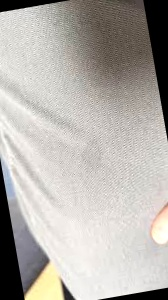oil: (78, 133, 114, 175)
